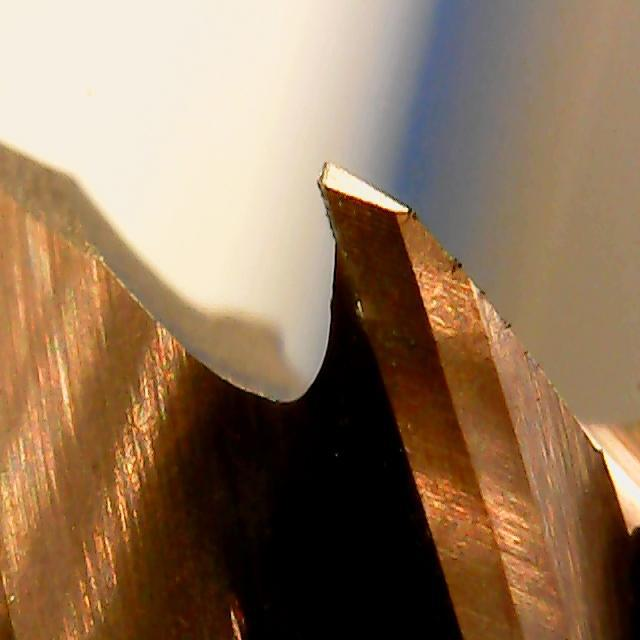Tool-wear-class-1: (312, 150, 482, 364)
